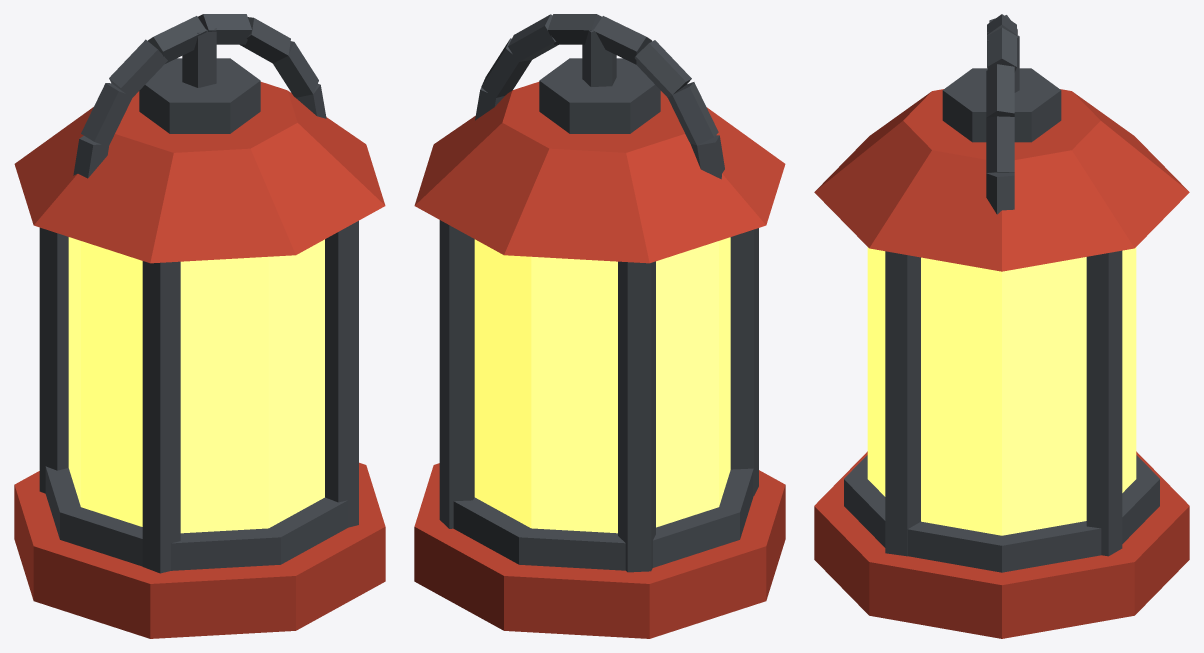
The model's file is lantern.glb.
3 renders of one model, left to right at view 1: azimuth 30°, elevation 25°; view 2: azimuth 150°, elevation 25°; view 3: azimuth 270°, elevation 25°, orthographic. The views are drawn at different scales.
Parts seen in each view (by area): view 1: lantern; view 2: lantern; view 3: lantern.
Part boxes in pixels (box(x1,y1,x2,y2)): lantern: box(14, 14, 385, 638); lantern: box(414, 14, 785, 638); lantern: box(814, 14, 1189, 638).
Bounding box in the file's own units: 0.19 × 0.2978 × 0.19.
